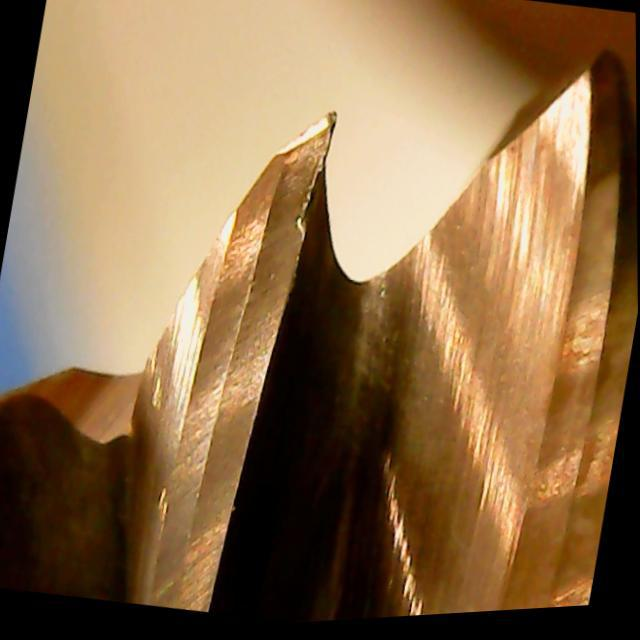Tool-wear-class-1: (173, 93, 353, 415)
